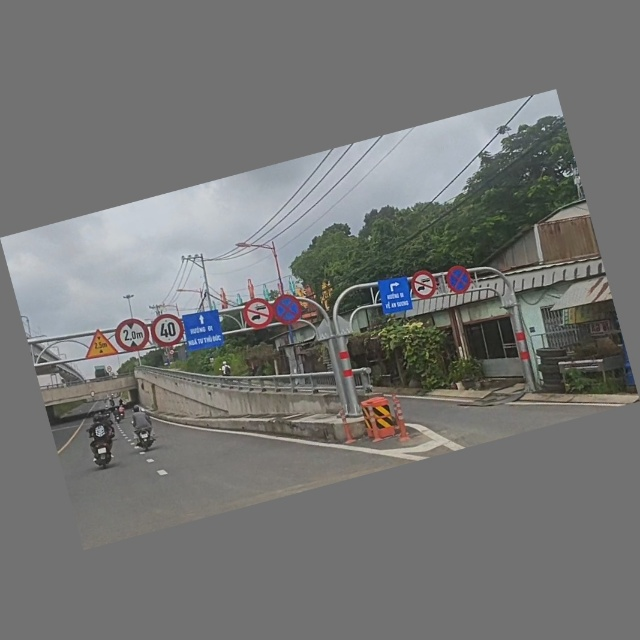P.107: (241, 296, 277, 332), (405, 268, 441, 303)
P.117*: (110, 312, 154, 358)
P.127*40: (147, 310, 189, 351)
P.130: (271, 292, 305, 328), (443, 263, 476, 297)
W.239b*: (79, 326, 120, 364)
